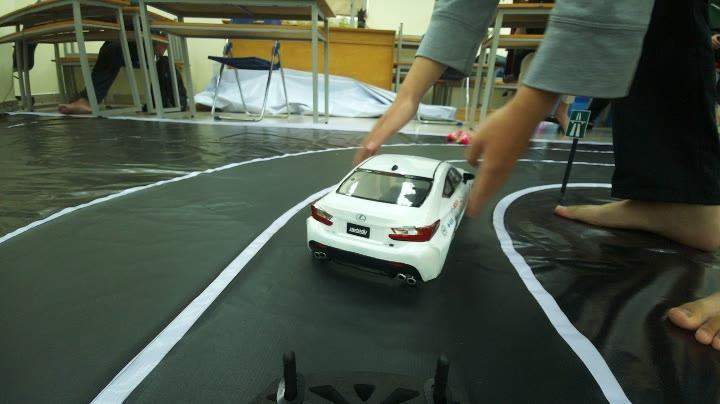car: (275, 128, 500, 308)
